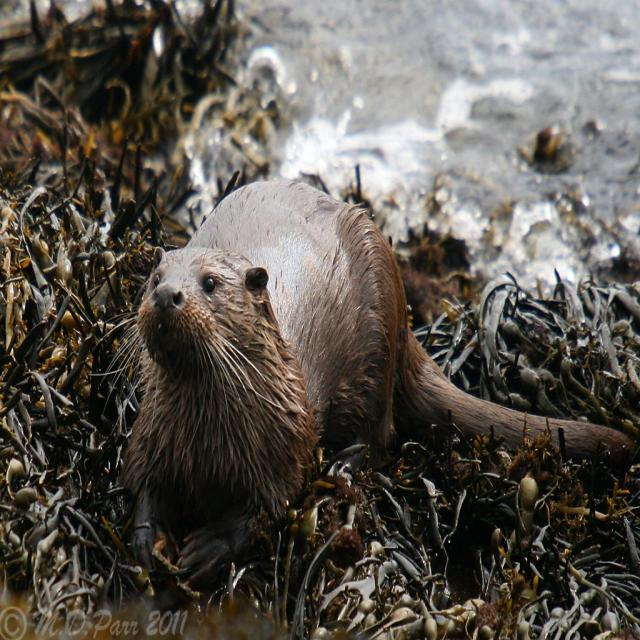otter: (129, 183, 409, 544)
